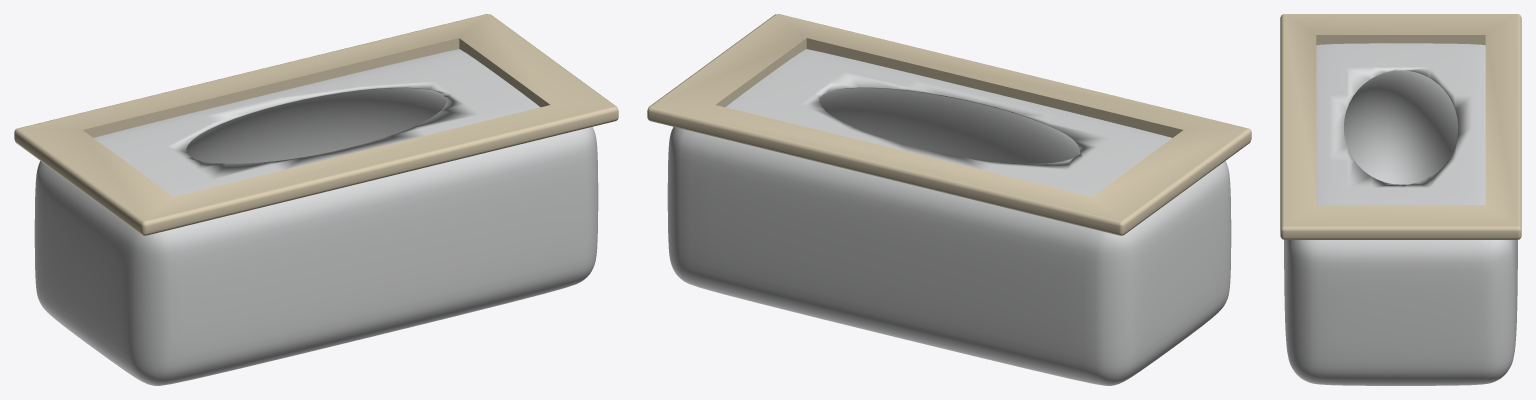
The model's file is bathtub.glb.
3 renders of one model, left to right at view 1: azimuth 30°, elevation 25°; view 2: azimuth 150°, elevation 25°; view 3: azimuth 270°, elevation 25°, orthographic. The views are drawn at different scales.
Visible parts, largest first — view 1: shell; view 2: shell; view 3: shell.
Boxes of the visible parts, left/top/right/bottom form: shell: left=14, top=14, right=618, bottom=385; shell: left=647, top=14, right=1251, bottom=385; shell: left=1280, top=14, right=1521, bottom=385.
Size of the model in its own units: 1.52 by 0.5703 by 0.72.
